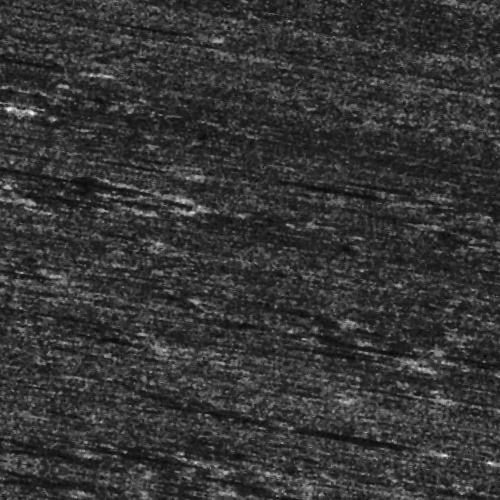object: (81, 197, 196, 218), (417, 319, 500, 330), (363, 171, 456, 178), (0, 219, 40, 230), (438, 413, 500, 420), (0, 233, 57, 240), (379, 334, 452, 339), (157, 43, 230, 48), (64, 98, 127, 103), (421, 161, 474, 166)
shadow: (0, 197, 138, 218), (361, 319, 458, 330), (340, 413, 469, 420), (308, 171, 409, 178), (315, 334, 416, 339), (348, 161, 447, 166), (18, 98, 96, 103), (119, 43, 193, 48), (0, 233, 25, 240)
